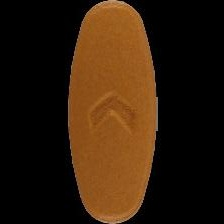0591-2169: (0, 0, 224, 224)
